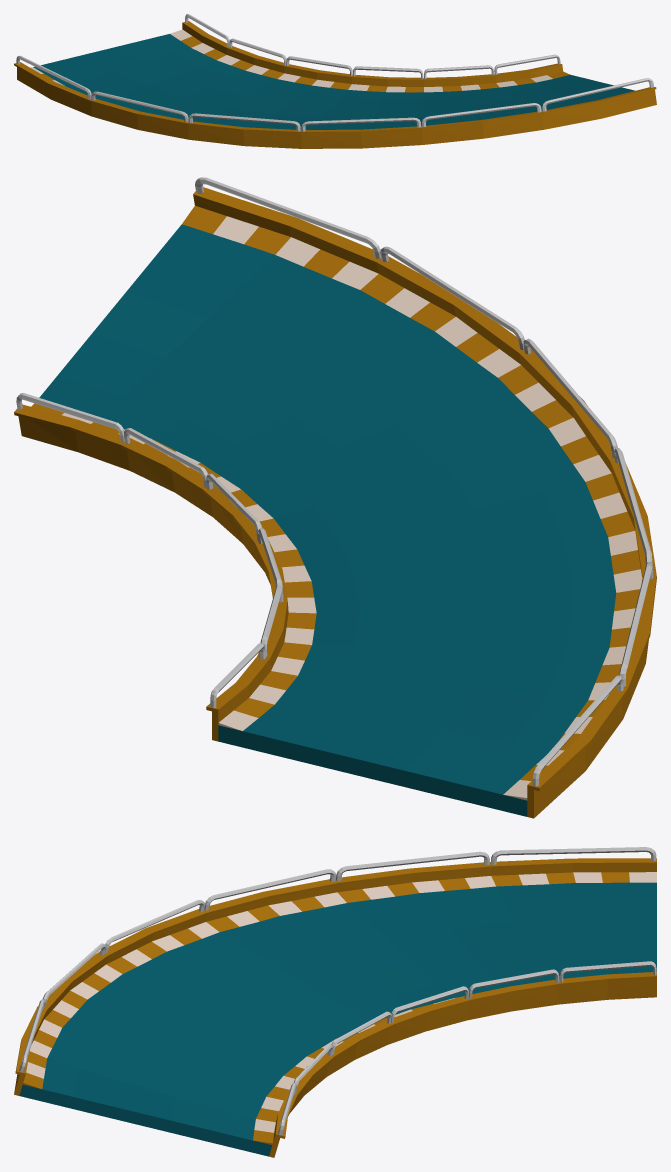
File: curveLeft-90-Banked-15.FBX
3 renders of one model, top to bottom at view 1: azimuth 30°, elevation 25°; view 2: azimuth 150°, elevation 25°; view 3: azimuth 270°, elevation 25°, orthographic. The views are drawn at different scales.
Parts seen in each view (by area): view 1: curveLeft-90-banked-15, wall_r, wall_l, curbs_l; view 2: curveLeft-90-banked-15, wall_r, curbs_r, wall_l, curbs_l; view 3: curveLeft-90-banked-15, wall_r, wall_l, curbs_r, curbs_l.
Boxes of the visible parts, x1=… form: curveLeft-90-banked-15: x1=33, y1=34, x2=634, y2=129; wall_r: x1=14, y1=55, x2=656, y2=148; wall_l: x1=182, y1=14, x2=563, y2=86; curbs_l: x1=170, y1=29, x2=569, y2=92; curveLeft-90-banked-15: x1=39, y1=224, x2=616, y2=816; wall_r: x1=193, y1=177, x2=656, y2=818; curbs_r: x1=182, y1=205, x2=642, y2=800; wall_l: x1=14, y1=393, x2=288, y2=741; curbs_l: x1=31, y1=403, x2=316, y2=730; curveLeft-90-banked-15: x1=19, y1=882, x2=656, y2=1156; wall_r: x1=14, y1=847, x2=656, y2=1095; wall_l: x1=269, y1=961, x2=656, y2=1157; curbs_r: x1=23, y1=872, x2=656, y2=1089; curbs_l: x1=253, y1=997, x2=459, y2=1144.
Size of what is drawn, in the model's own units: 485 by 81.87 by 477.
